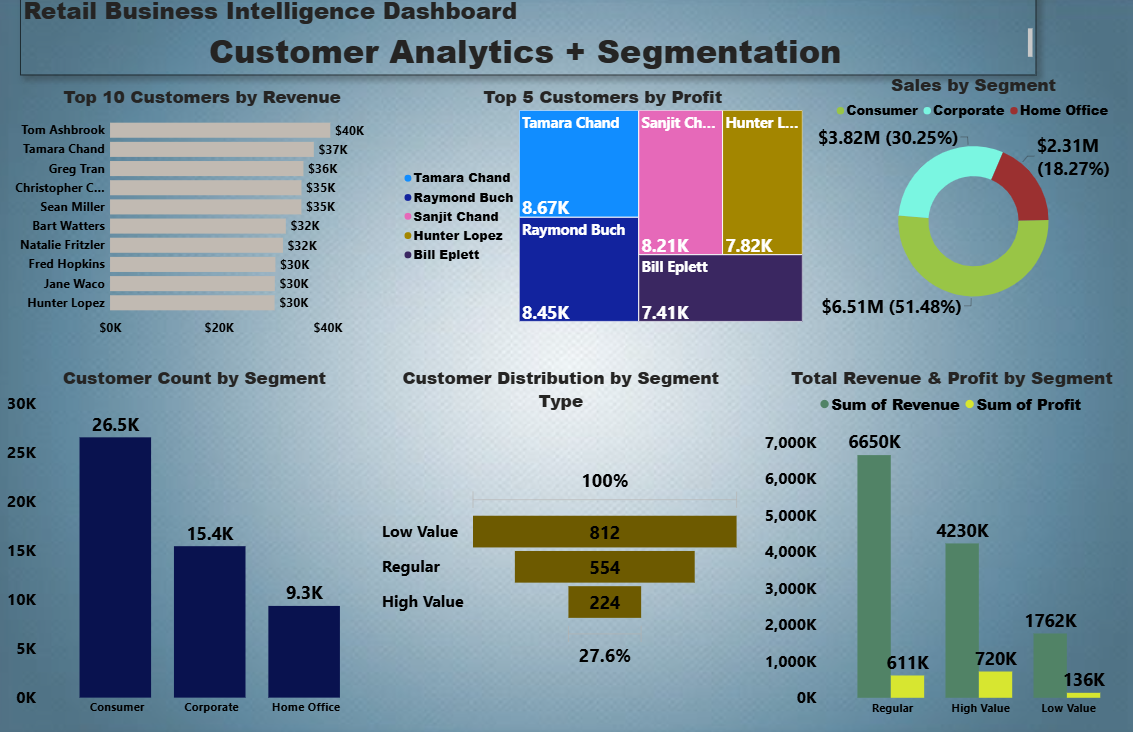

The page's visual inventory and layout, read from the dashboard file:
{"tool":"powerbi","page":{"name":"Page 3","canvas":[2000,1300],"ordinal":2},"visuals":[{"type":"textbox","title":"Retail Business Intelligence Dashboard","box":[46.7,0,1770,143.3],"z":0},{"type":"barChart","title":"Top 10 Customers by Revenue","fields":{"Category":["cleaned_data.Customer Name"],"Y":["Sum(cleaned_data.Sales)"]},"box":[16.7,160,690,450],"z":1000},{"type":"treemap","title":"Top 5 Customers by Profit","fields":{"Group":["cleaned_data.Customer Name"],"Values":["Sum(cleaned_data.Profit)"]},"box":[707.4,159.3,705.6,418.5],"z":2000},{"type":"donutChart","title":"Sales by Segment","fields":{"Y":["Sum(cleaned_data.Sales)"],"Category":["cleaned_data.Segment"]},"box":[1413.3,140,586.7,436.7],"z":3000},{"type":"clusteredColumnChart","title":"Customer Count by Segment","fields":{"Category":["cleaned_data.Segment"],"Y":["CountNonNull(cleaned_data.Customer Name)"]},"box":[16.7,650,663.3,620],"z":4000},{"type":"funnel","title":"Customer Distribution by Segment Type","fields":{"Category":["customer_segments.Segment_Type"],"Y":["CountNonNull(customer_segments.Customer ID)"]},"box":[670,650,633.3,620],"z":5000},{"type":"clusteredColumnChart","title":"Total Revenue & Profit by Segment","fields":{"Y":["Sum(customer_segments.Revenue)","Sum(customer_segments.Profit)"],"Category":["customer_segments.Segment_Type"]},"box":[1336.7,650,663.3,620],"z":6000}]}

Visuals, with their boxes in screenshot pixels (x1, y1, x2, y2), scaled from the page's 2000x1300 canvas onto the 1133x732 screenshot:
"Retail Business Intelligence Dashboard" textbox: (26,0,1029,81)
"Top 10 Customers by Revenue" barChart: (9,90,400,343)
"Top 5 Customers by Profit" treemap: (401,90,800,325)
"Sales by Segment" donutChart: (801,79,1132,325)
"Customer Count by Segment" clusteredColumnChart: (9,366,385,715)
"Customer Distribution by Segment Type" funnel: (380,366,738,715)
"Total Revenue & Profit by Segment" clusteredColumnChart: (757,366,1132,715)
